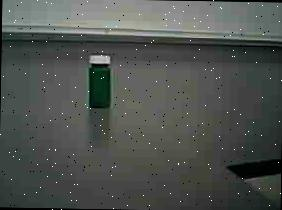Bottle C: (81, 53, 126, 120)
